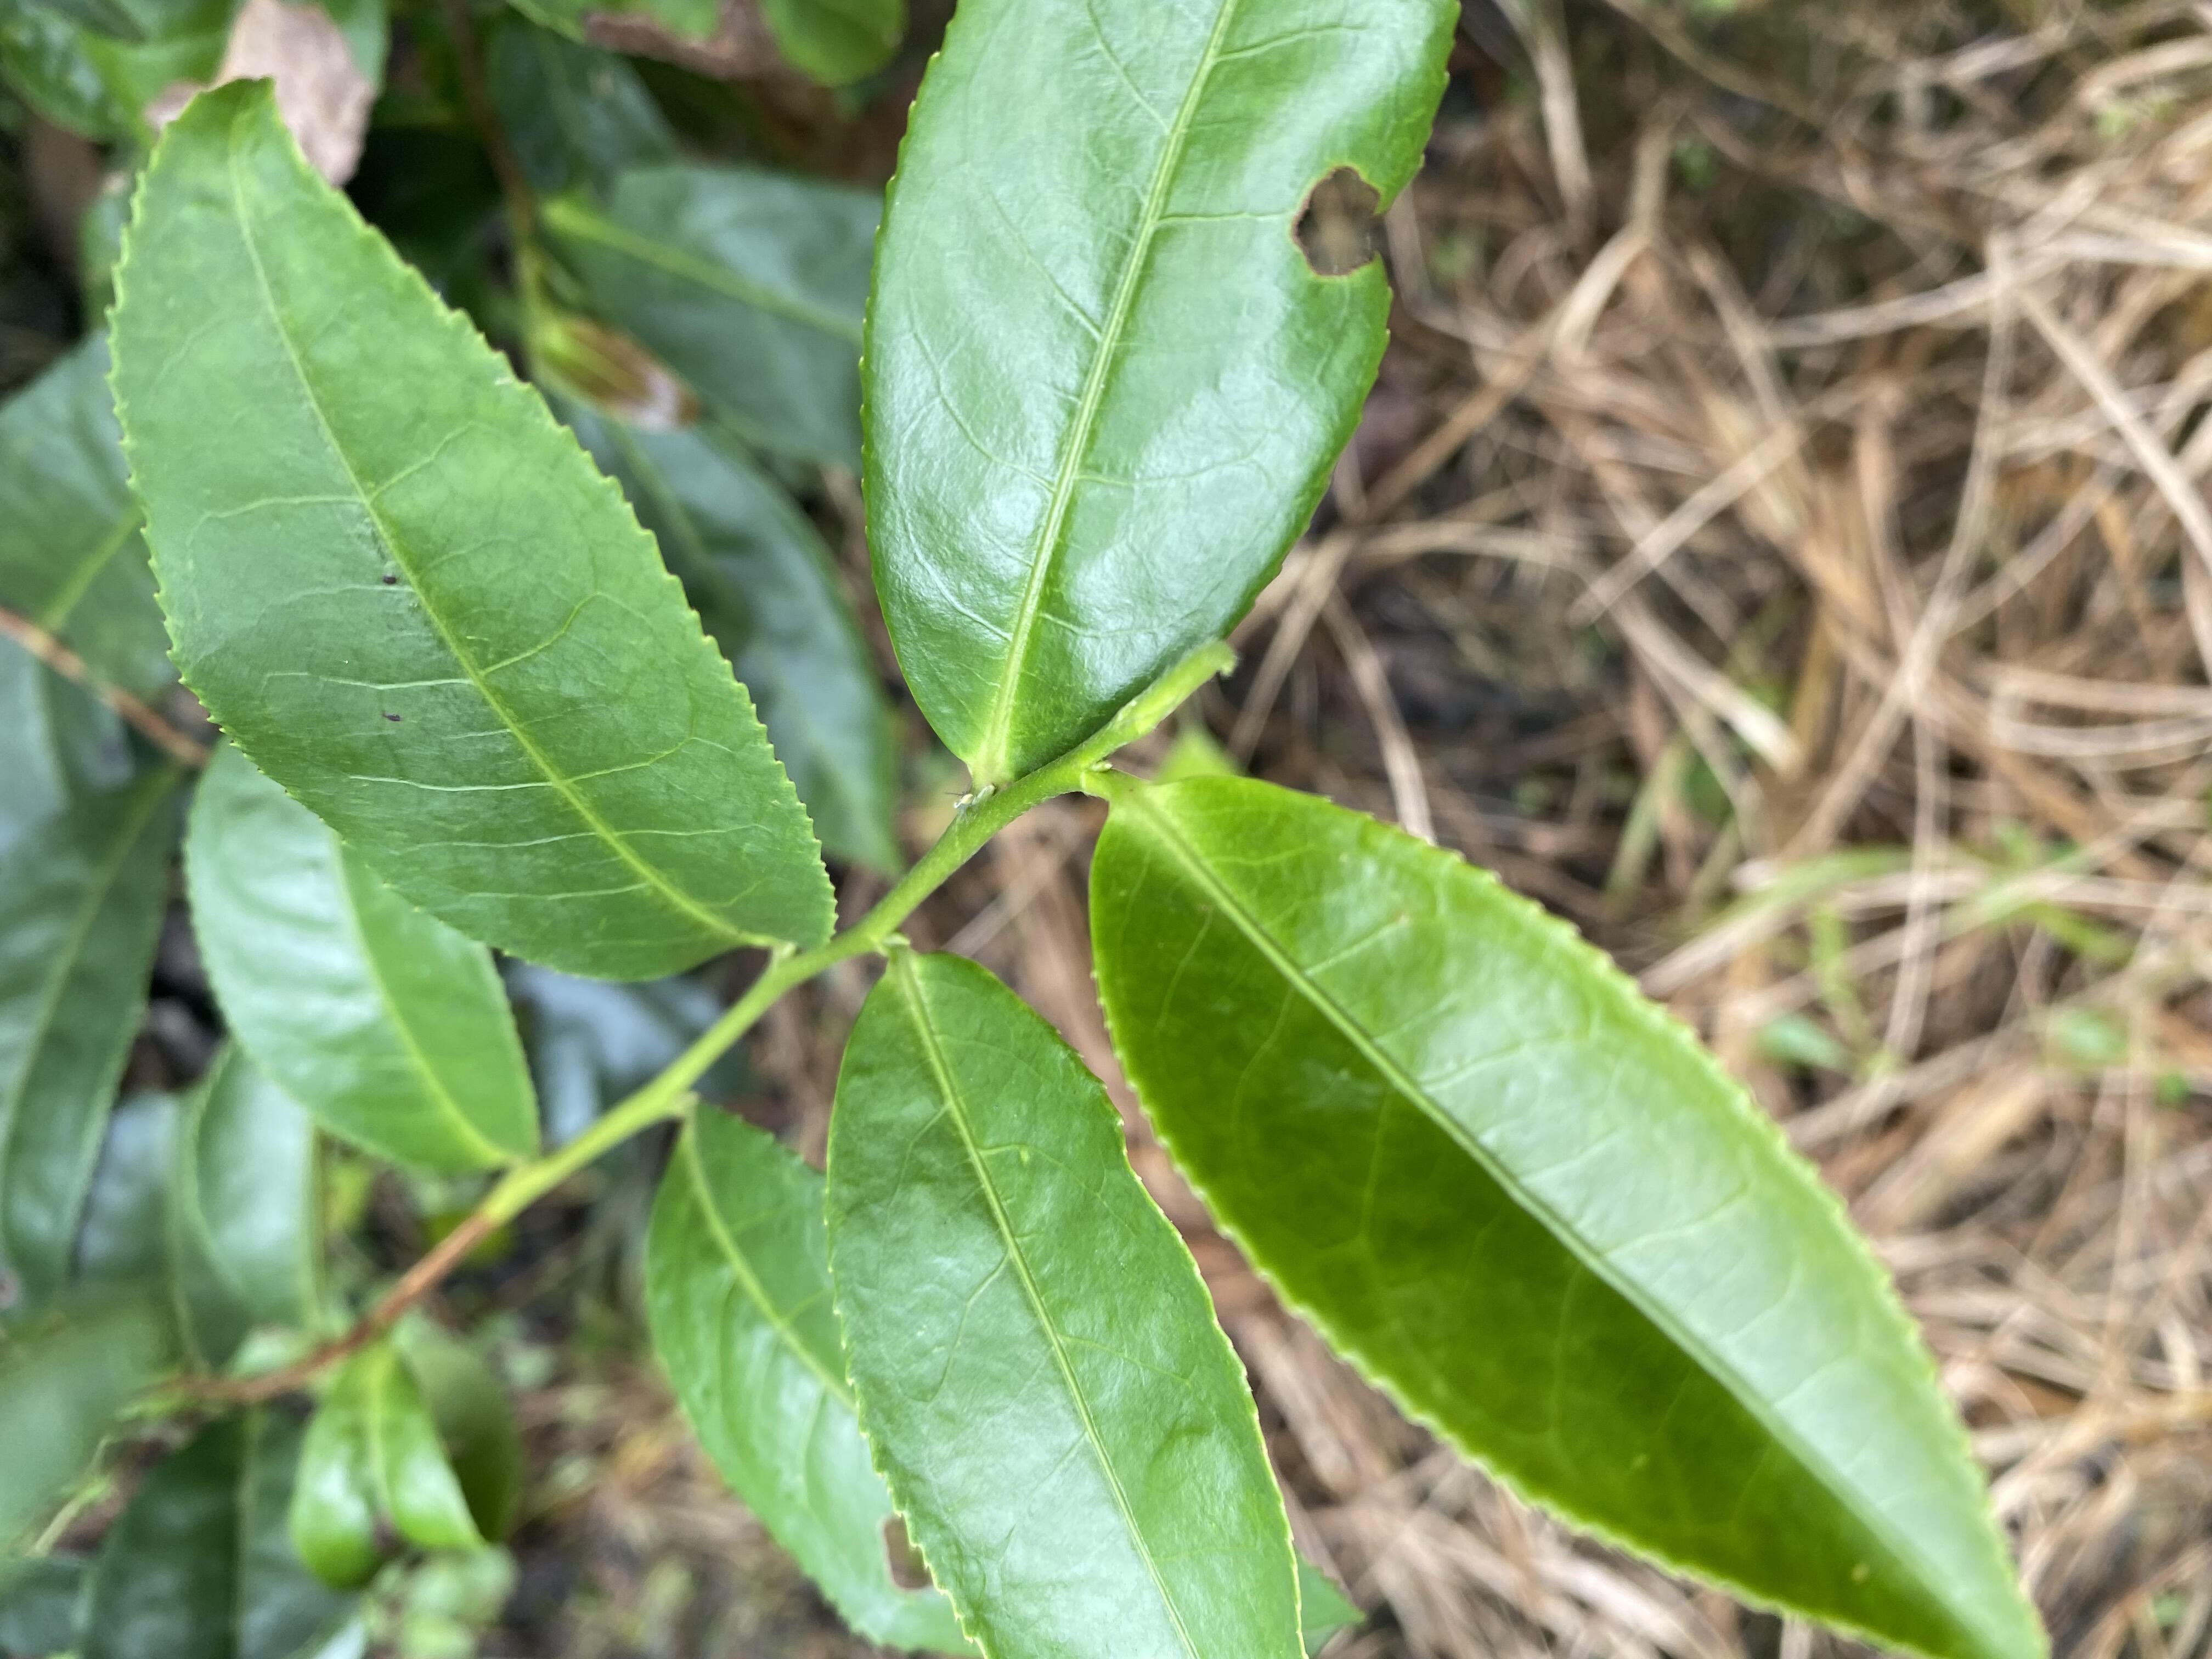chihuo_low: (853, 2, 1463, 779), (637, 1098, 1367, 1652)
healthy: (1089, 770, 2057, 1656), (103, 73, 841, 983), (822, 950, 1308, 1656)
